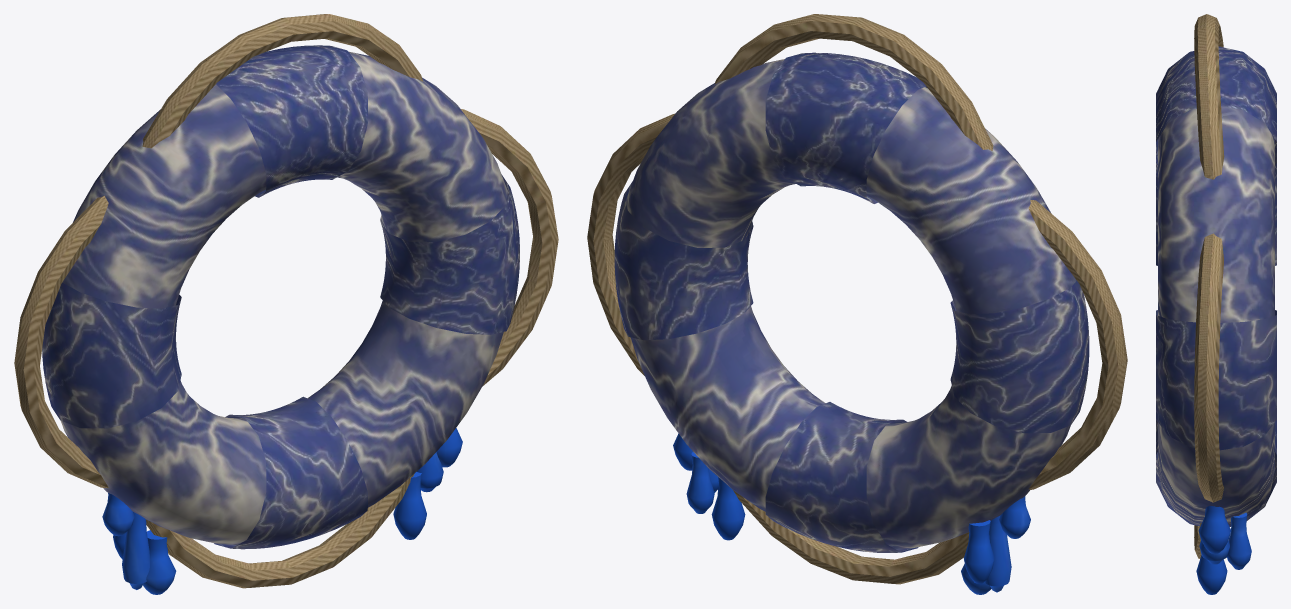
The model's file is life_ring.glb.
The picture shows the model from 3 angles, left to right: view 1: azimuth 30°, elevation 25°; view 2: azimuth 150°, elevation 25°; view 3: azimuth 270°, elevation 25°; orthographic projection. The views are drawn at different scales.
Parts seen in each view (by area): view 1: life_ring; view 2: life_ring; view 3: life_ring.
Boxes of the visible parts, x1,y1,x2,y2 form: life_ring: [14, 14, 558, 594]; life_ring: [587, 14, 1127, 594]; life_ring: [1156, 14, 1276, 594].
Size of the model in its own units: 0.78 by 0.78 by 0.1636.
Materials: 1 (1 with a texture image).
